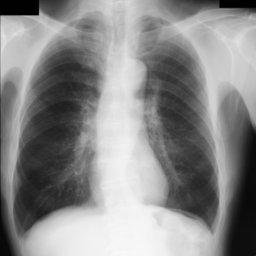left lobe: (138, 16, 219, 226)
right lobe: (14, 14, 108, 234)
